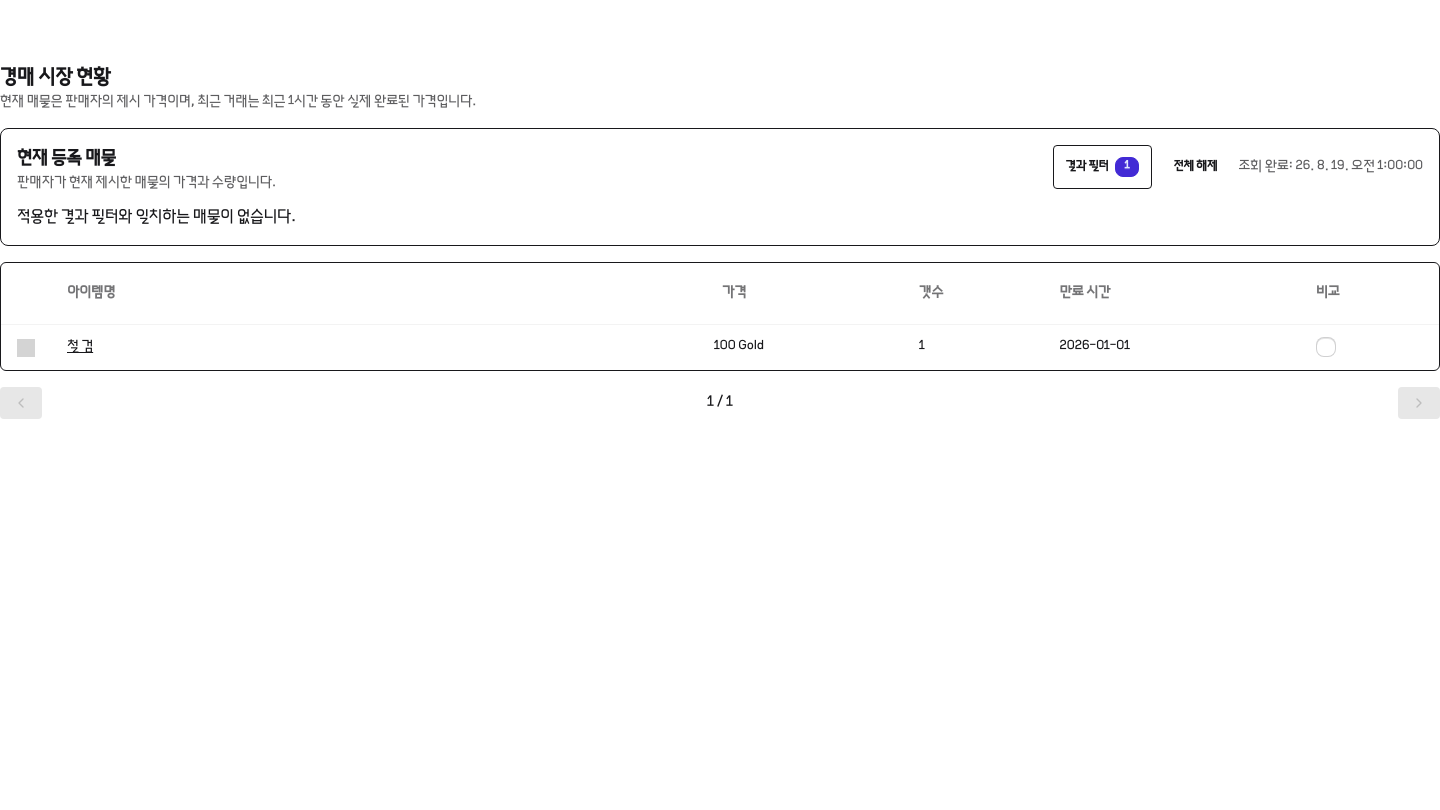
Test case: AuctionResults › omits a redundant exact-item selector and discards a closed draft
Click the button with aria-label "결과 필터, 1개 적용": (1102, 167) [1052,145,1152,189]
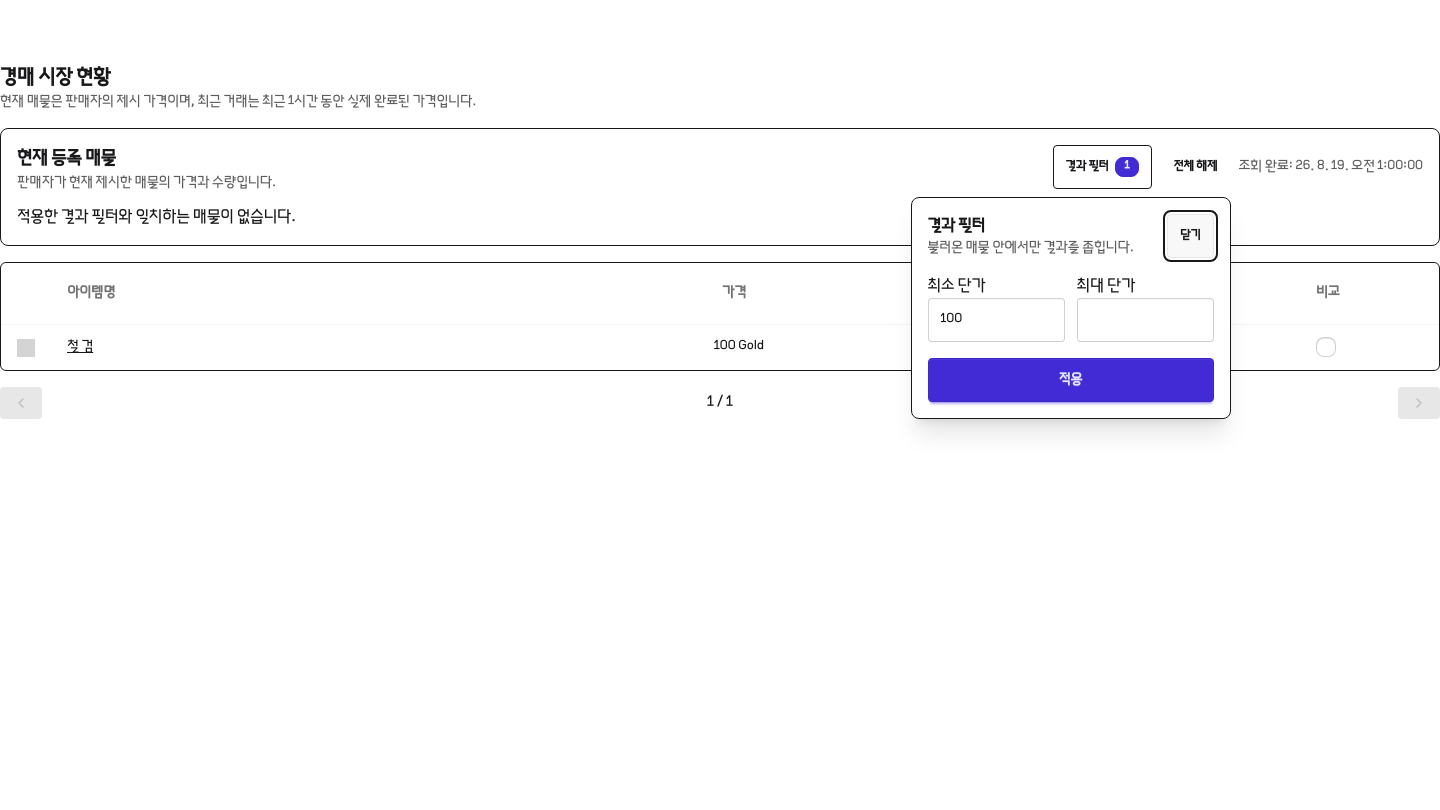
Expected: the number field labelled "최소 단가" holds "100"
Replace the text in the number field labelled "최소 단가" with "200": (996, 320) [928,298,1065,342]
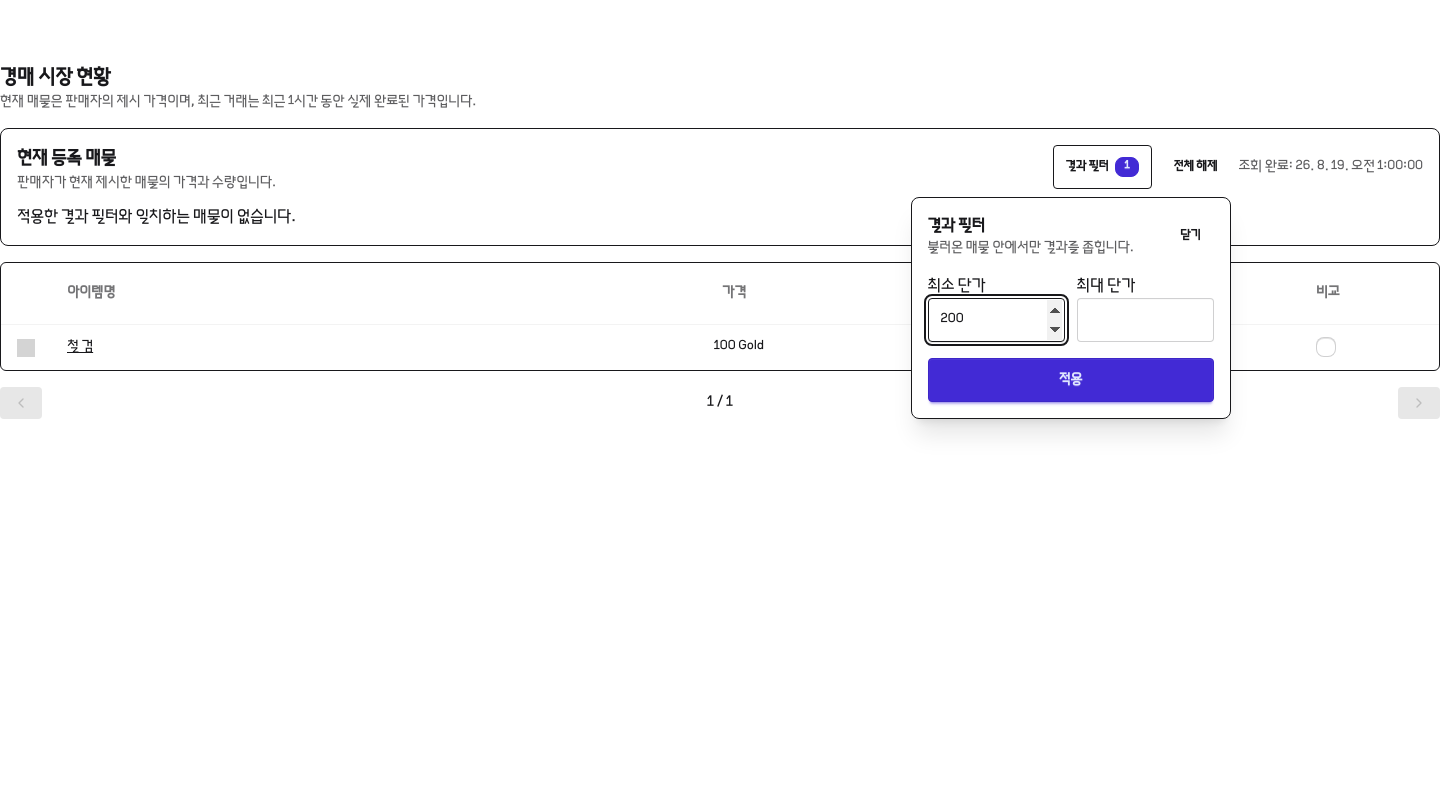
Click the button "닫기": (1190, 236) [1167,214,1214,258]
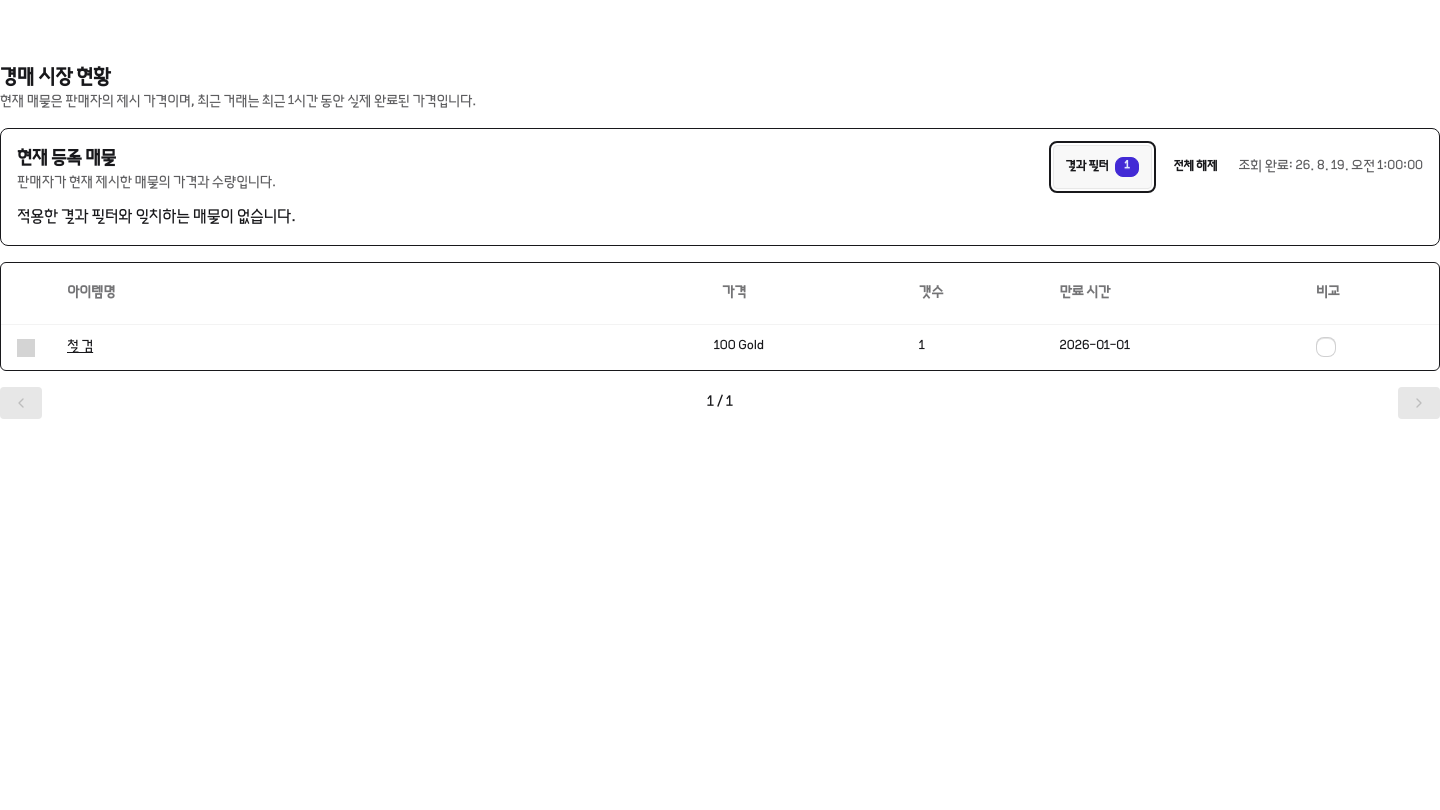
Click the button with aria-label "결과 필터, 1개 적용": (1102, 167) [1052,145,1152,189]
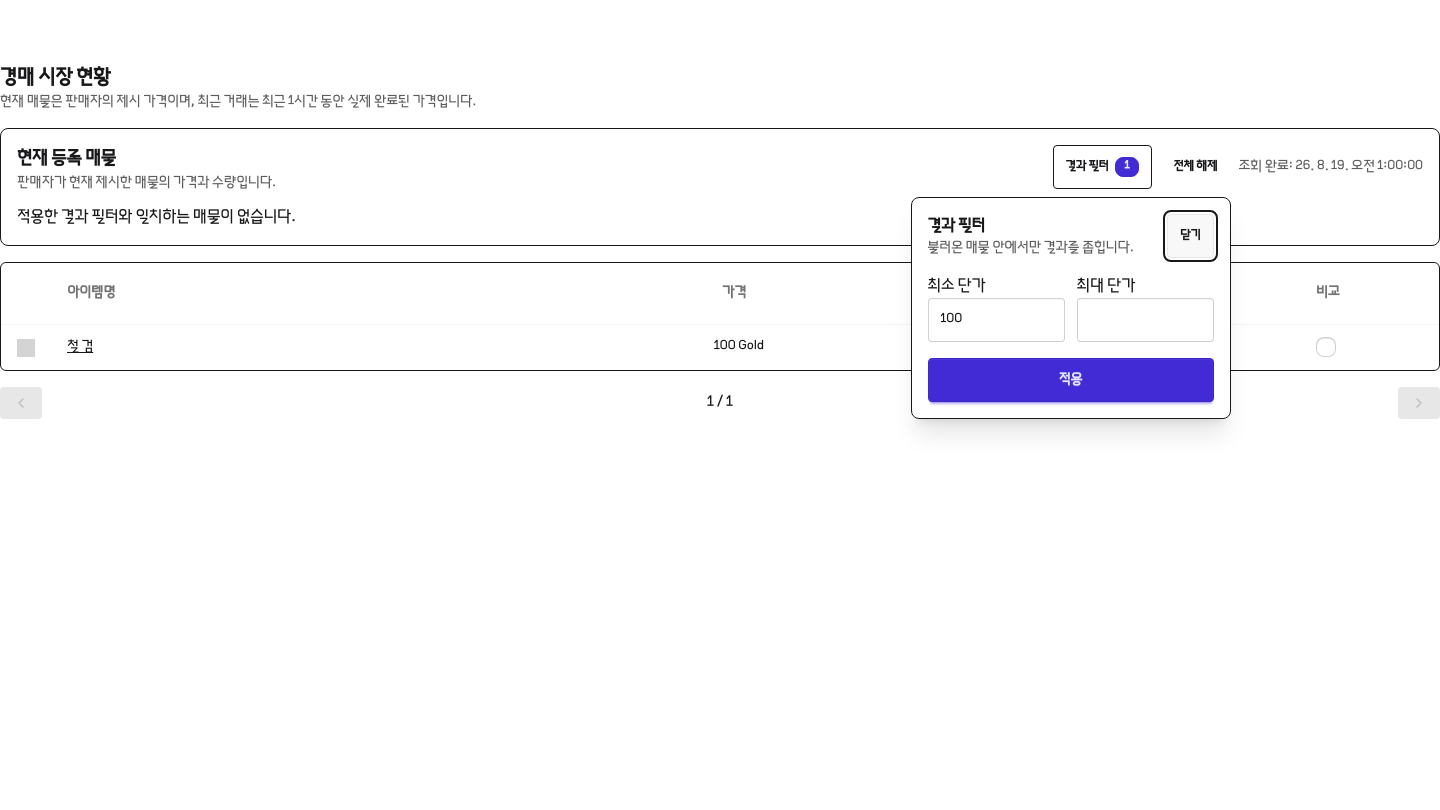
Expected: the number field labelled "최소 단가" holds "100", [928,298,1065,342]
